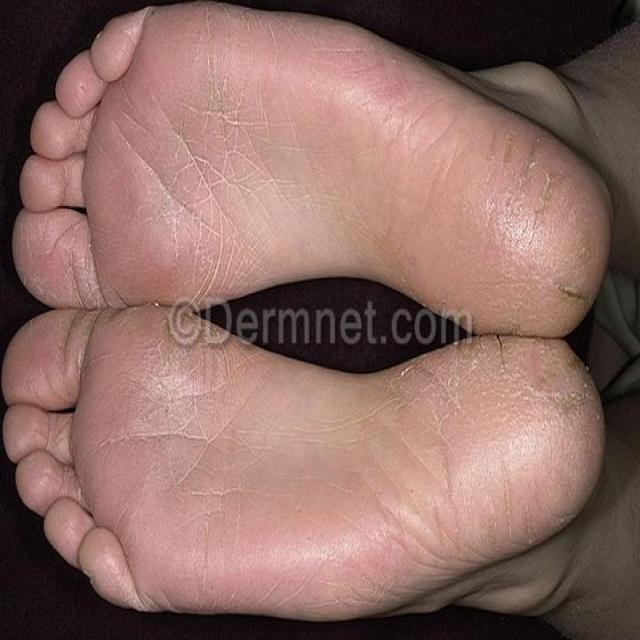liquenificacion 1: (6, 8, 608, 612)
